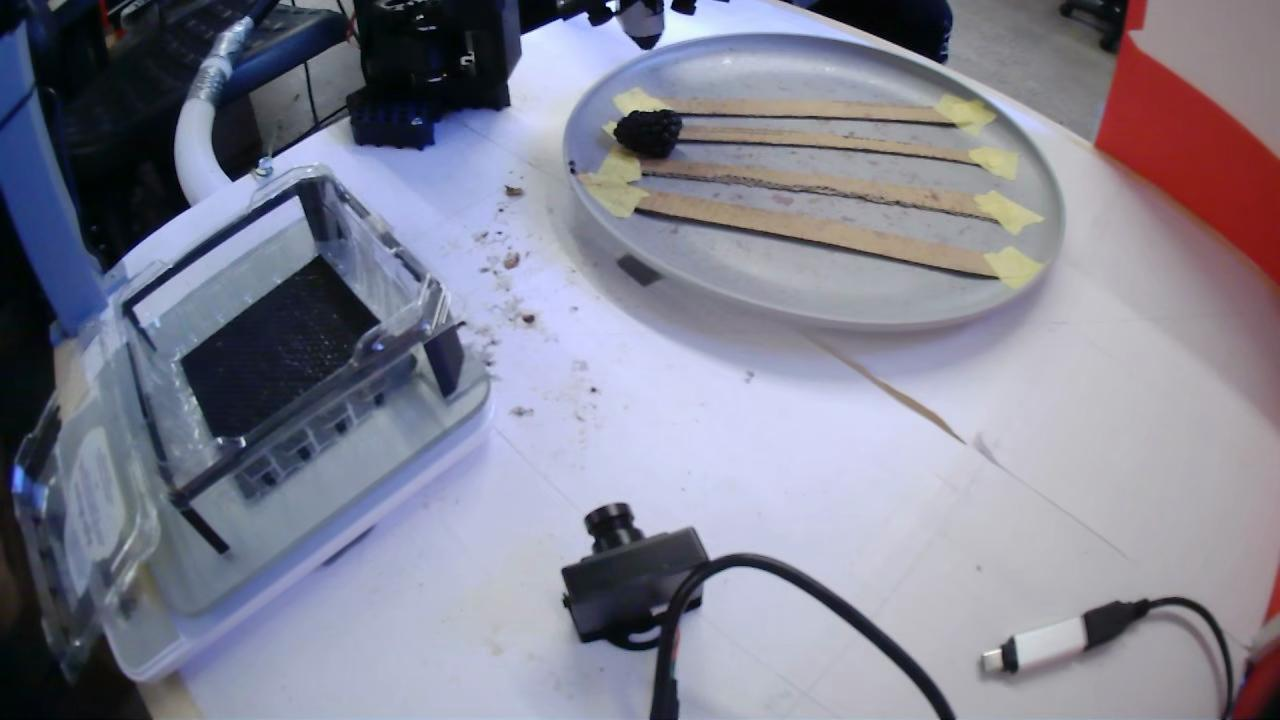berry: (613, 109, 682, 158)
